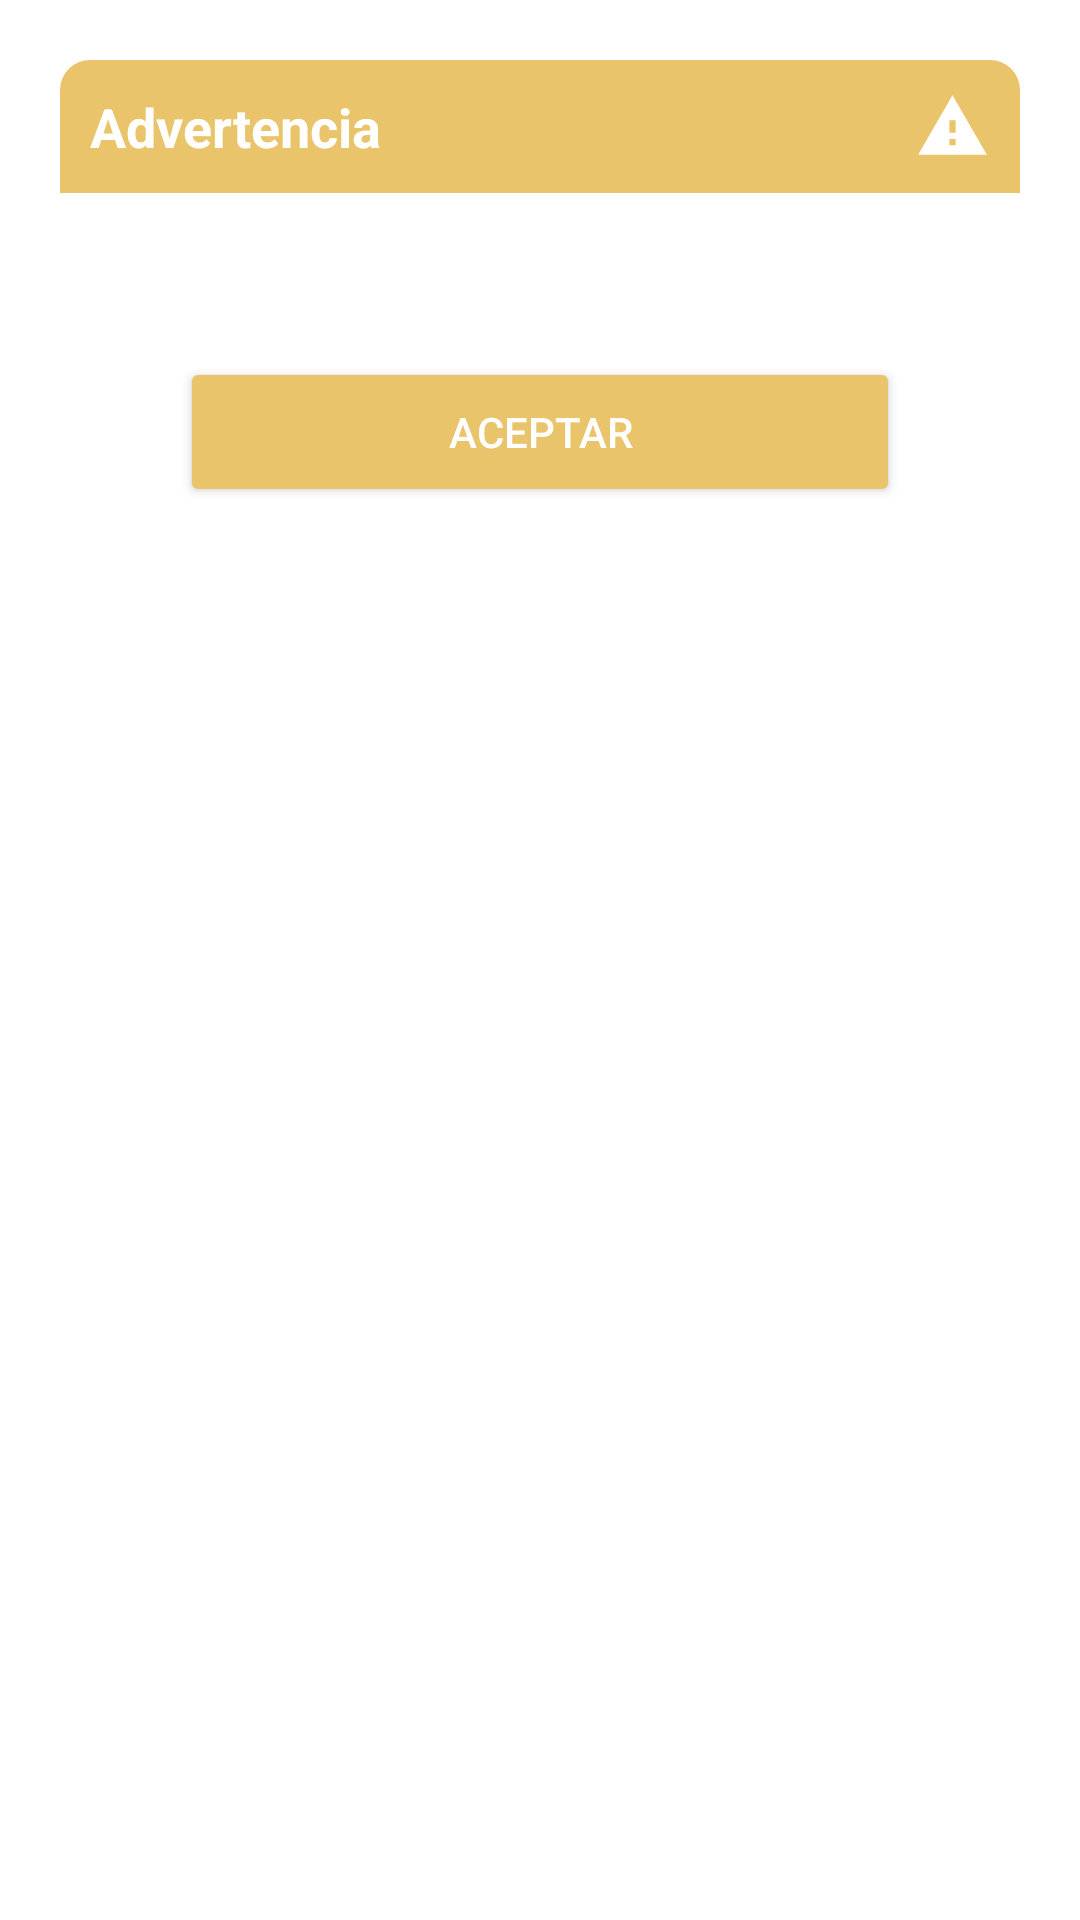

Icons on this 1080 x 1920 Android screen, each with the point to tap as (x,y):
warning: (952,125)
